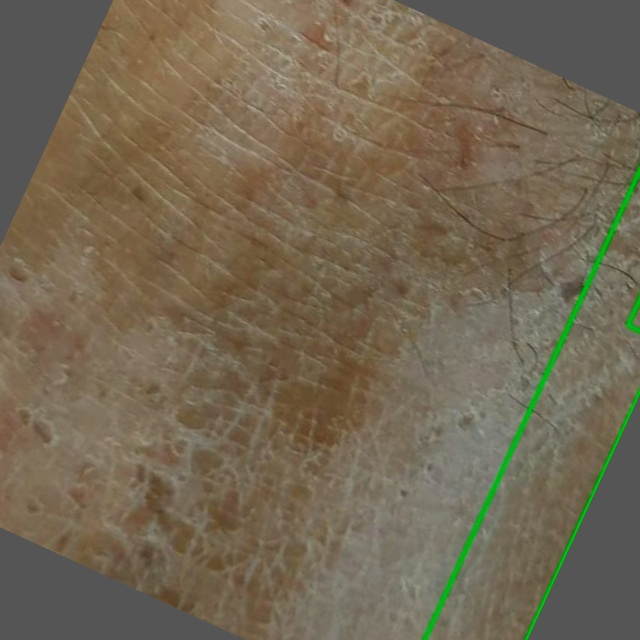Tinea Corporis: (424, 171, 639, 639)
